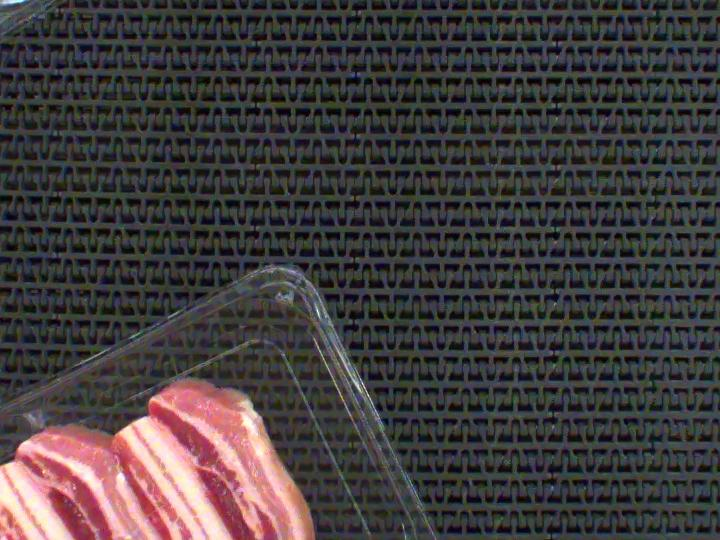packaging-error: (21, 408, 53, 433)
